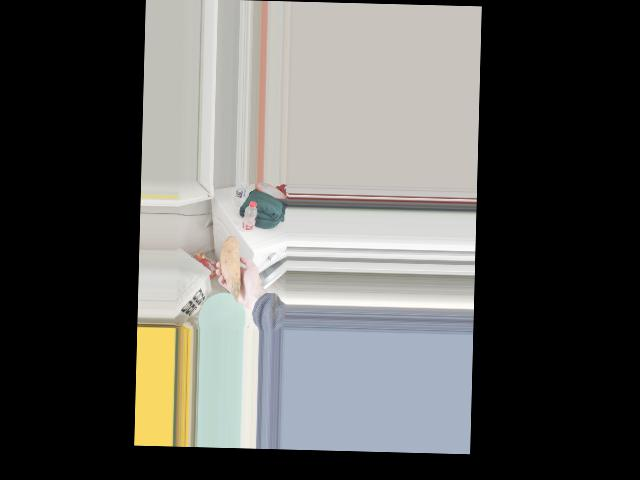sweet_potato: (218, 241, 241, 298)
